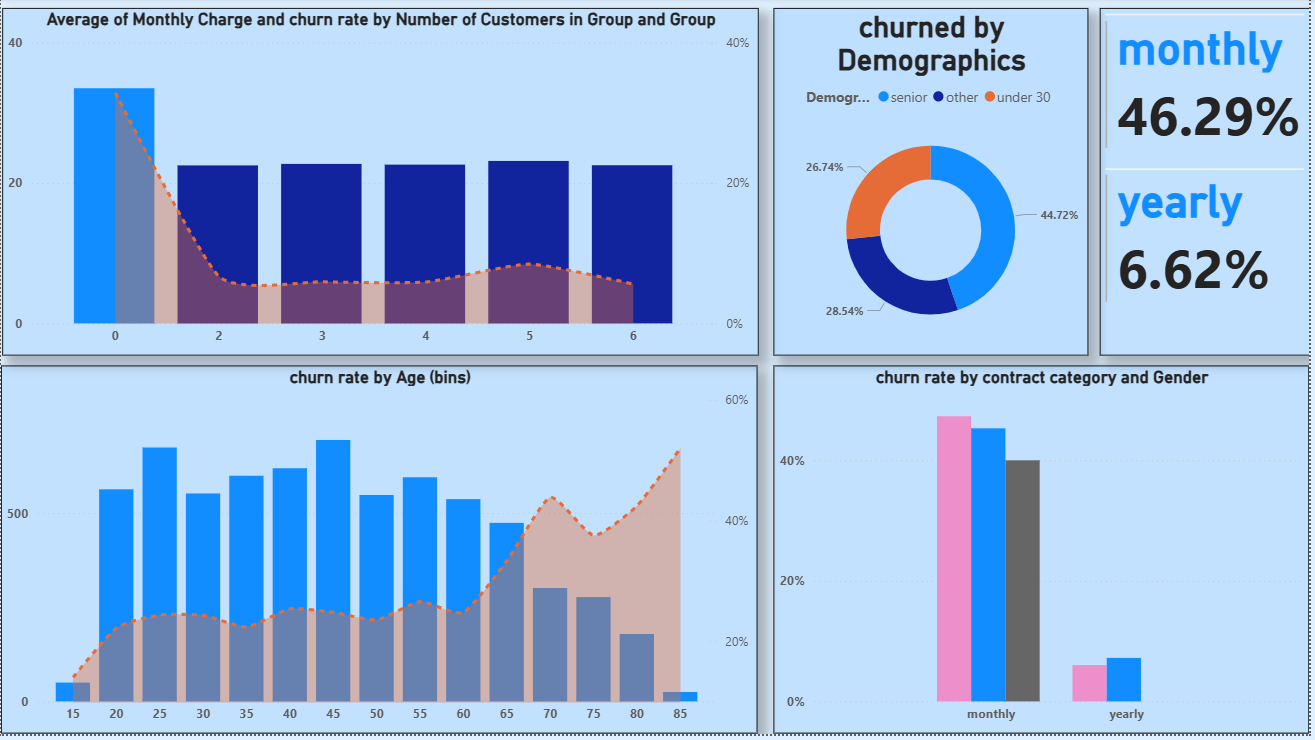

The dashboard page shown, as its layout file describes it:
{"tool":"powerbi","page":{"name":"groups and graph","canvas":[1280,720],"ordinal":1},"visuals":[{"type":"donutChart","title":" churned by Demographics","fields":{"Category":["Databel - Data.Demographics"],"Y":["Databel - Data.churn rate"]},"box":[755.7,9.8,308.2,339.9],"z":0},{"type":"lineStackedColumnComboChart","title":" churn rate by Age (bins)","fields":{"Y":["Databel - Data.total customar"],"Y2":["Databel - Data.churn rate"],"Category":["Databel - Data.Age (bins)"]},"box":[0,360,740,360],"z":1000},{"type":"multiRowCard","fields":{"Values":["Databel - Data.contract category","Databel - Data.churn rate"]},"box":[1074.9,9.8,205.4,339.9],"z":2000},{"type":"lineStackedColumnComboChart","fields":{"Y":["Avg(Databel - Data.Monthly Charge)"],"Category":["Databel - Data.Number of Customers in Group"],"Y2":["Databel - Data.churn rate"],"Series":["Databel - Data.Group"]},"box":[1.2,9.8,739.8,339.9],"z":3000},{"type":"clusteredColumnChart","fields":{"Category":["Databel - Data.contract category"],"Y":["Databel - Data.churn rate"],"Series":["Databel - Data.Gender"]},"box":[755.7,360,524.3,360],"z":4000}]}

Visuals, with their boxes in screenshot pixels (x1, y1, x2, y2), scaled from the page's 1280x720 canvas onto the 1315x740 screenshot:
" churned by Demographics" donutChart: rect(776, 10, 1093, 359)
" churn rate by Age (bins)" lineStackedColumnComboChart: rect(0, 370, 760, 739)
multiRowCard - Databel - Data.contract category x Databel - Data.churn rate: rect(1104, 10, 1314, 359)
lineStackedColumnComboChart - Avg(Databel - Data.Monthly Charge) x Databel - Data.Number of Customers in Group: rect(1, 10, 761, 359)
clusteredColumnChart - Databel - Data.contract category x Databel - Data.churn rate: rect(776, 370, 1314, 739)
